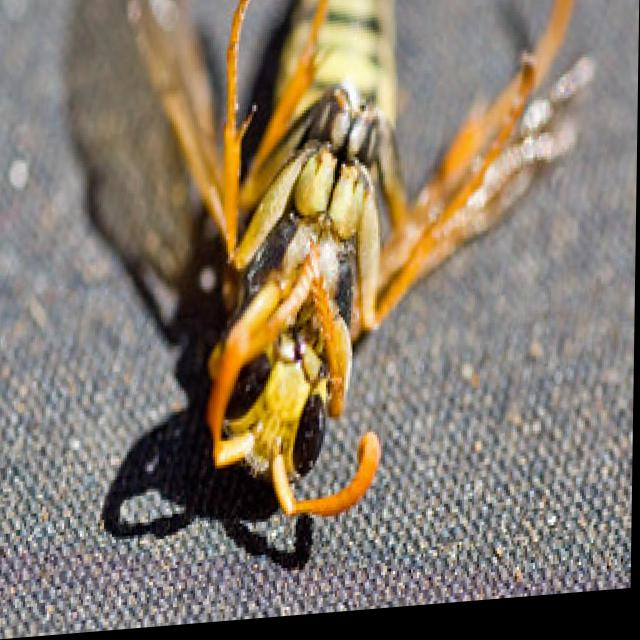Guepe: (113, 0, 608, 598)
